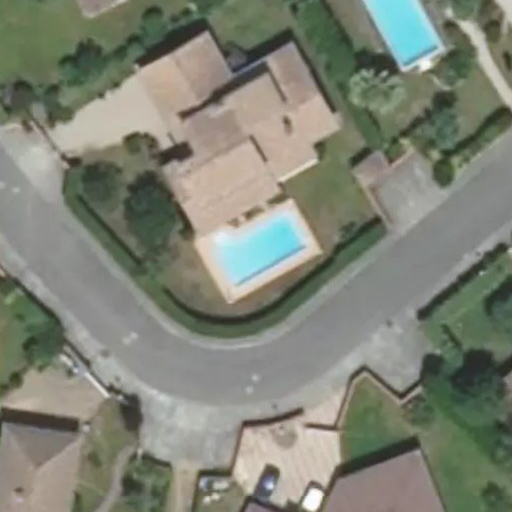pool: (200, 230, 306, 241)
